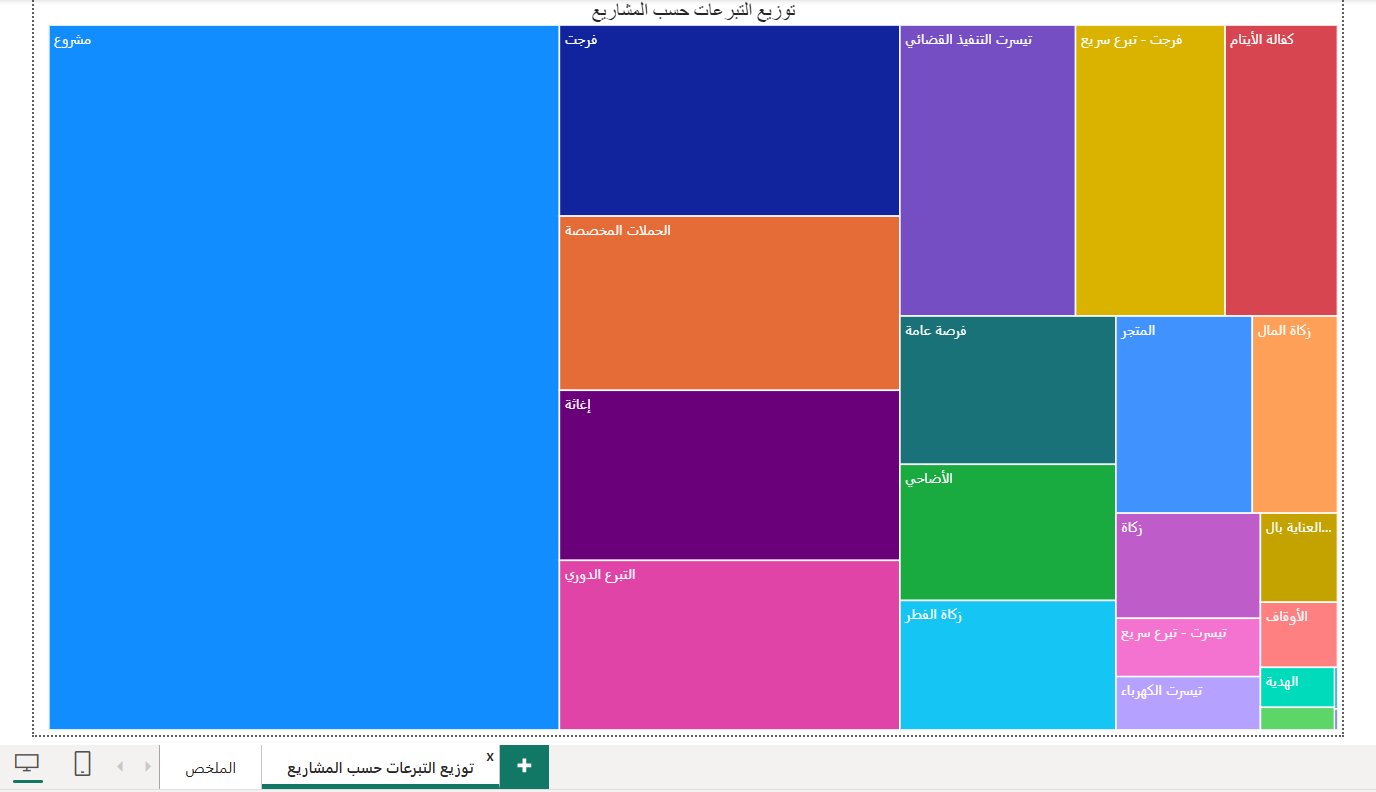

What the dashboard file says about the page in this screenshot:
{"tool":"powerbi","page":{"name":"توزيع التبرعات حسب المشاريع","canvas":[1280,720],"ordinal":1},"visuals":[{"type":"treemap","title":"توزيع التبرعات حسب المشاريع","fields":{"Group":["Ehsan.InitiativeName"],"Values":["Ehsan.Total Amount"]},"box":[9.8,0,1270.5,720.2],"z":0}]}

Visuals, with their boxes on the page's 1280x720 design canvas (x1, y1, x2, y2). These are canvas units, not pixel positions in the 1376x792 screenshot, which may show the page scaled, cropped or inside an application window:
"توزيع التبرعات حسب المشاريع" treemap: BBox(10, 0, 1280, 720)
